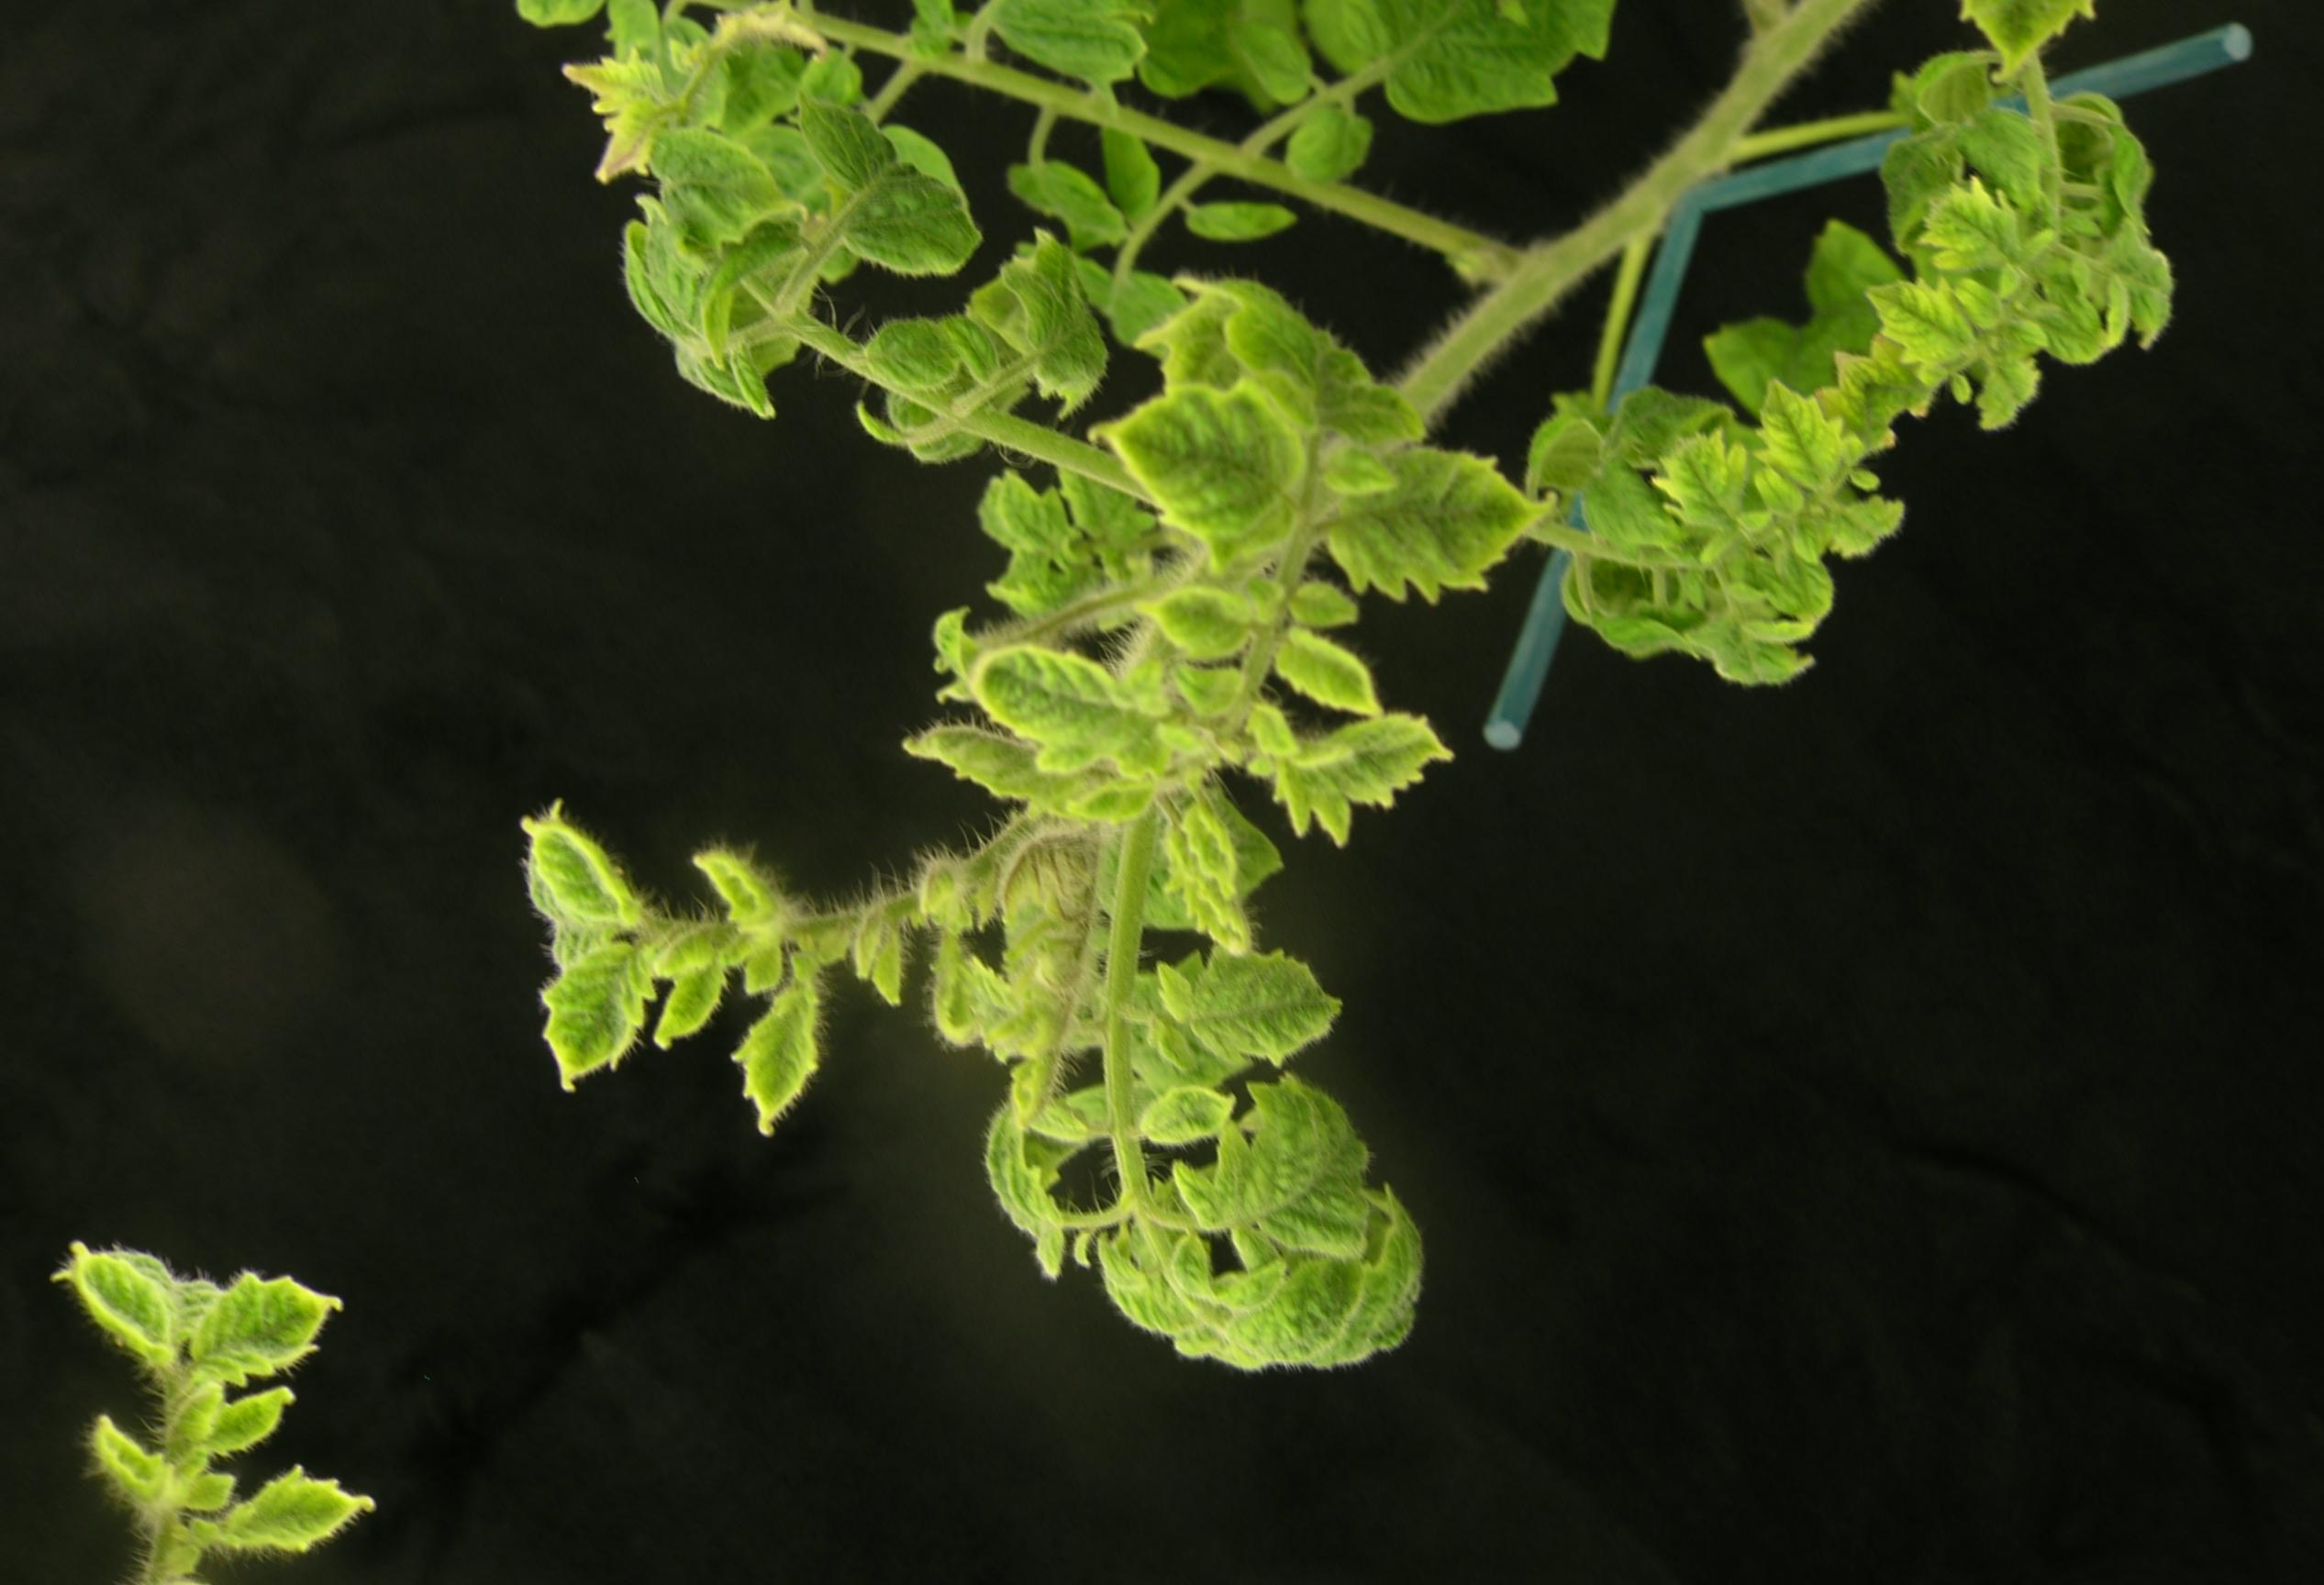Tomato leaf yellow virus: (1042, 282, 1369, 611), (1307, 388, 1584, 664), (1132, 891, 1377, 1138), (945, 590, 1181, 830), (1143, 1055, 1374, 1285), (472, 916, 703, 1144), (1247, 655, 1473, 879), (470, 771, 657, 962), (1618, 418, 1789, 591), (1061, 1220, 1219, 1377), (397, 0, 696, 79), (1759, 337, 1911, 491), (1715, 362, 1861, 512), (544, 0, 858, 32)
